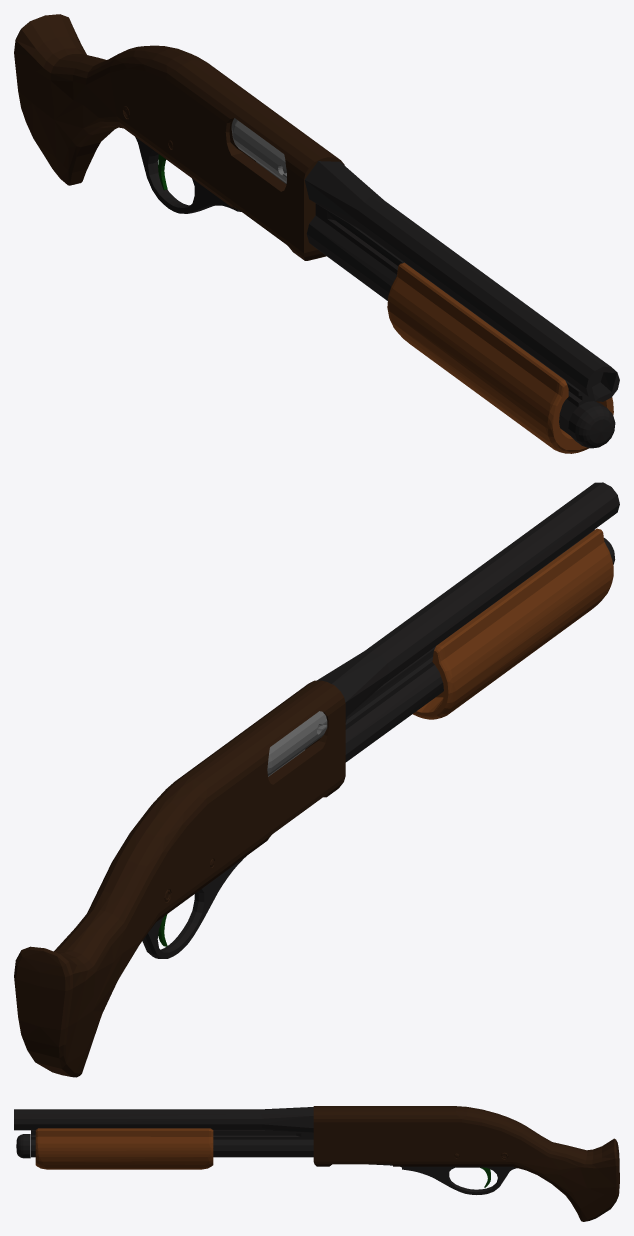
File: sawed-off.obj
3 renders of one model, top to bottom at view 1: azimuth 30°, elevation 25°; view 2: azimuth 150°, elevation 25°; view 3: azimuth 270°, elevation 25°, orthographic. The views are drawn at different scales.
Visible parts, largest first — view 1: sawed-off.021, sawed-off.024, sawed-off.020, sawed-off.025, sawed-off.023, sawed-off.027, sawed-off.026; view 2: sawed-off.021, sawed-off.020, sawed-off.024, sawed-off.025, sawed-off.023, sawed-off.026; view 3: sawed-off.021, sawed-off.020, sawed-off.024, sawed-off.025, sawed-off.023, sawed-off.027.
Part boxes in pixels (<box>): sawed-off.021: <box>14,14,344,260</box>; sawed-off.024: <box>304,161,619,401</box>; sawed-off.020: <box>387,262,613,453</box>; sawed-off.025: <box>306,203,596,435</box>; sawed-off.023: <box>135,137,241,213</box>; sawed-off.027: <box>568,401,615,448</box>; sawed-off.026: <box>231,118,286,183</box>; sawed-off.021: <box>14,680,345,1077</box>; sawed-off.020: <box>413,528,613,719</box>; sawed-off.024: <box>317,482,619,717</box>; sawed-off.025: <box>345,529,594,762</box>; sawed-off.023: <box>142,856,246,958</box>; sawed-off.026: <box>267,711,327,776</box>; sawed-off.021: <box>313,1106,619,1221</box>; sawed-off.020: <box>35,1128,213,1169</box>; sawed-off.024: <box>14,1107,313,1132</box>; sawed-off.025: <box>31,1130,313,1157</box>; sawed-off.023: <box>400,1166,517,1194</box>; sawed-off.027: <box>16,1134,30,1158</box>.
Size of the model in its own units: 1.7 by 5.15 by 25.1.
